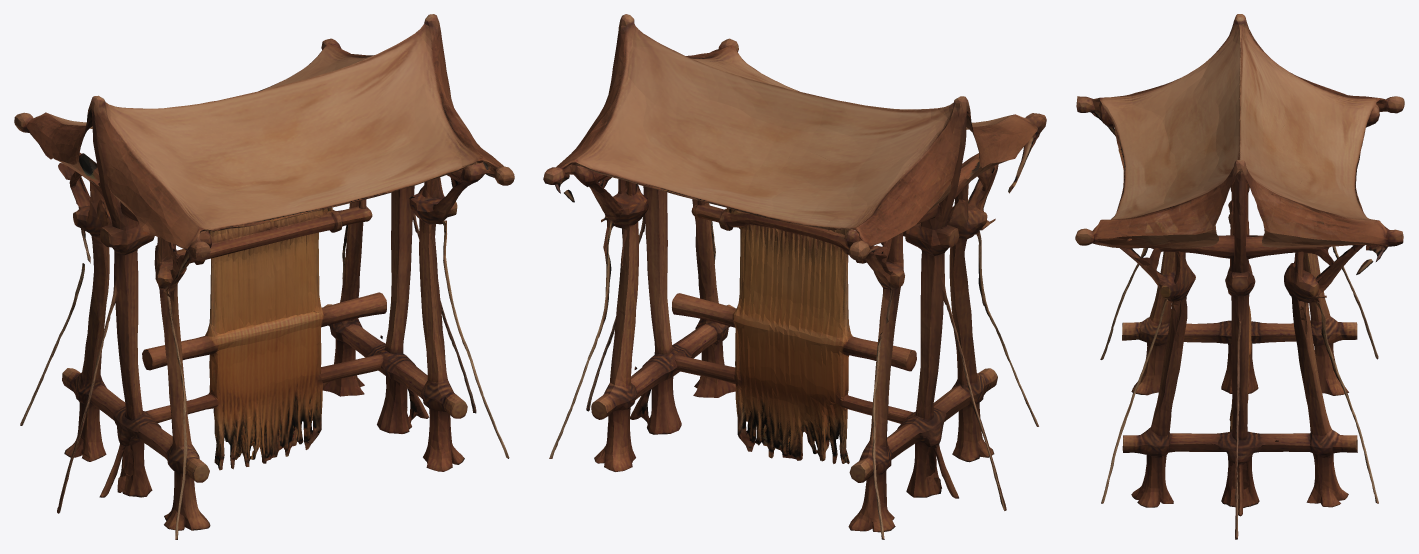
File: covered_loom_station.glb
3 views of the same model, side by side, from view 1: azimuth 30°, elevation 25°; view 2: azimuth 150°, elevation 25°; view 3: azimuth 270°, elevation 25° (orthographic). The views are drawn at different scales.
Parts seen in each view (by area): view 1: world; view 2: world; view 3: world.
Part boxes in pixels (x1,y1,x2,y2): world: (14,14,514,539); world: (543,14,1046,539); world: (1075,14,1404,539).
Size of the model in its own units: 1 by 0.9279 by 0.7657.
1 material, 1 textured.
